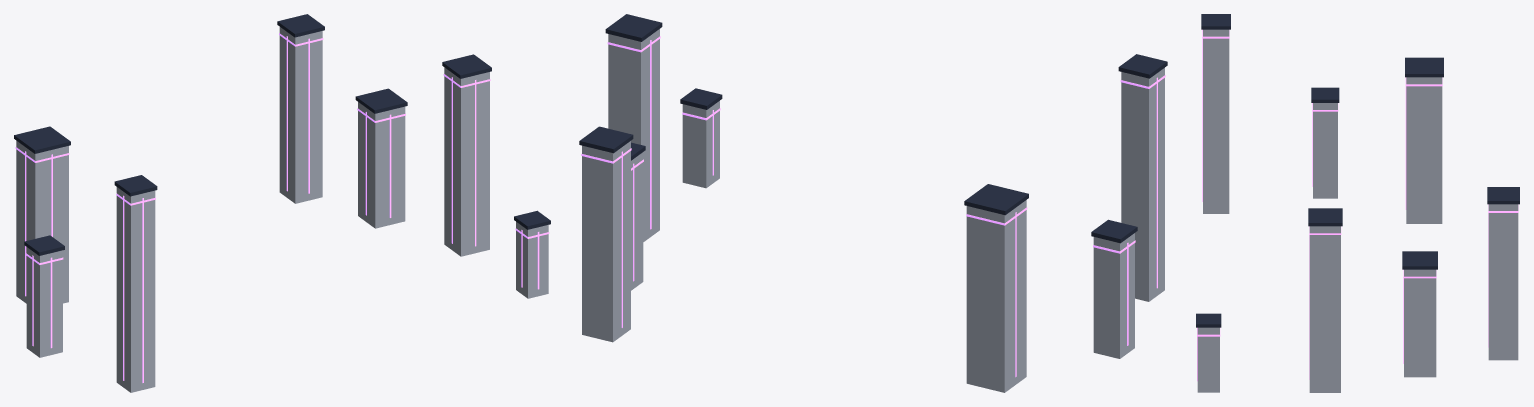
3 renders of one model, left to right at view 1: azimuth 30°, elevation 25°; view 2: azimuth 150°, elevation 25°; view 3: azimuth 270°, elevation 25°, orthographic. The views are drawn at different scales.
Visible parts, largest first — view 1: nexo_spires_cero.lod1; view 2: nexo_spires_cero.lod1; view 3: nexo_spires_cero.lod1.
Boxes of the visible parts, x1,y1,x2,y2 form: nexo_spires_cero.lod1: (14, 14, 550, 392); nexo_spires_cero.lod1: (579, 14, 1167, 392); nexo_spires_cero.lod1: (1196, 14, 1519, 392).
Size of the model in its own units: 26.37 by 11.22 by 17.49.
